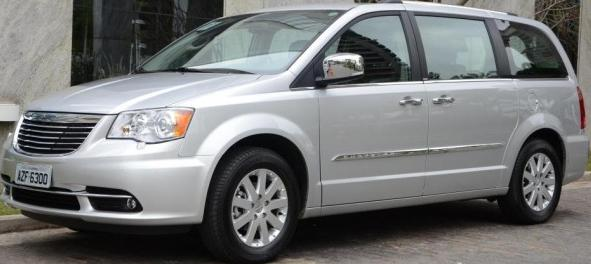backlight: (573, 81, 590, 133)
front_view: (0, 108, 206, 223)
headlight: (110, 110, 197, 152)
side_glass: (320, 9, 498, 87)
